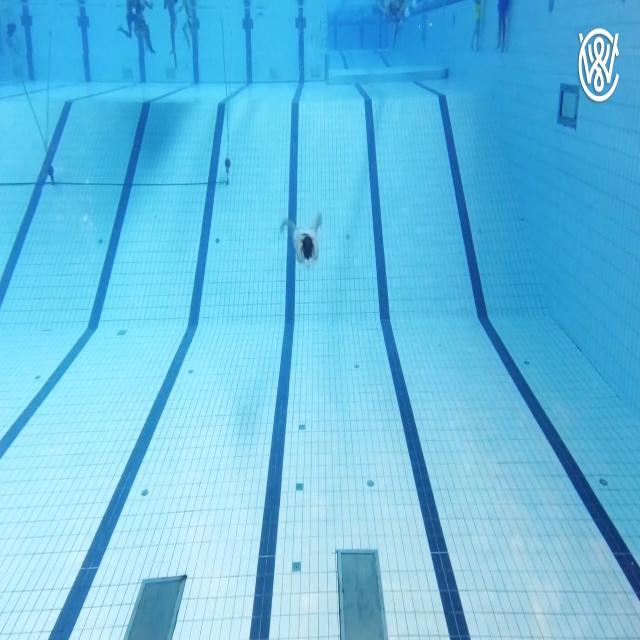Swimming: (278, 212, 328, 268)
